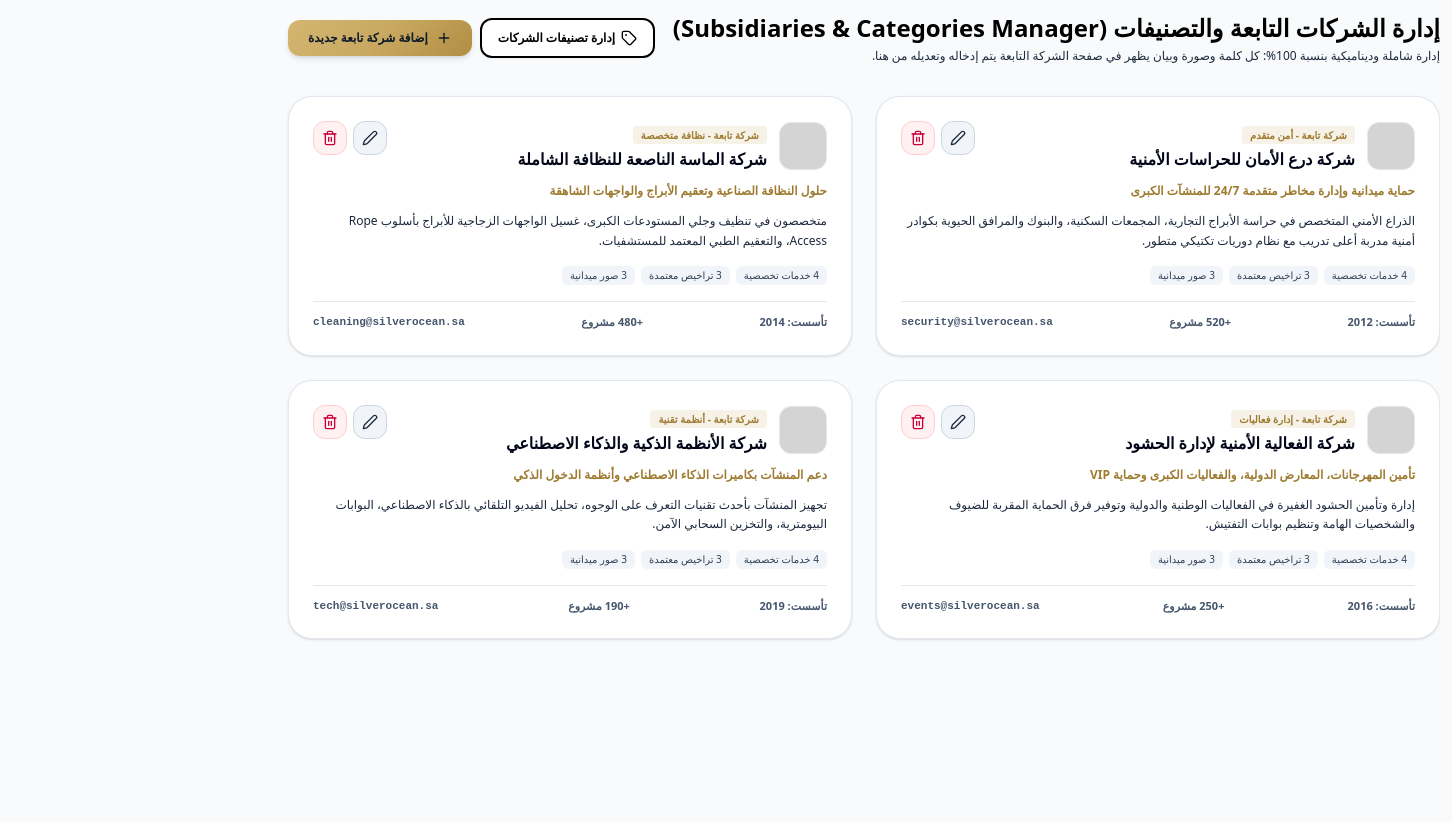
SubsidiariesManager - Light Mode Dark Text & Contrast Verification › 2. Shows dynamic category manager with black text and light inputs
What coordinates should you click on to do the following:
click the button "إدارة تصنيفات الشركات"
I would click on:
 (567, 38)
Its box is [480, 18, 655, 58].
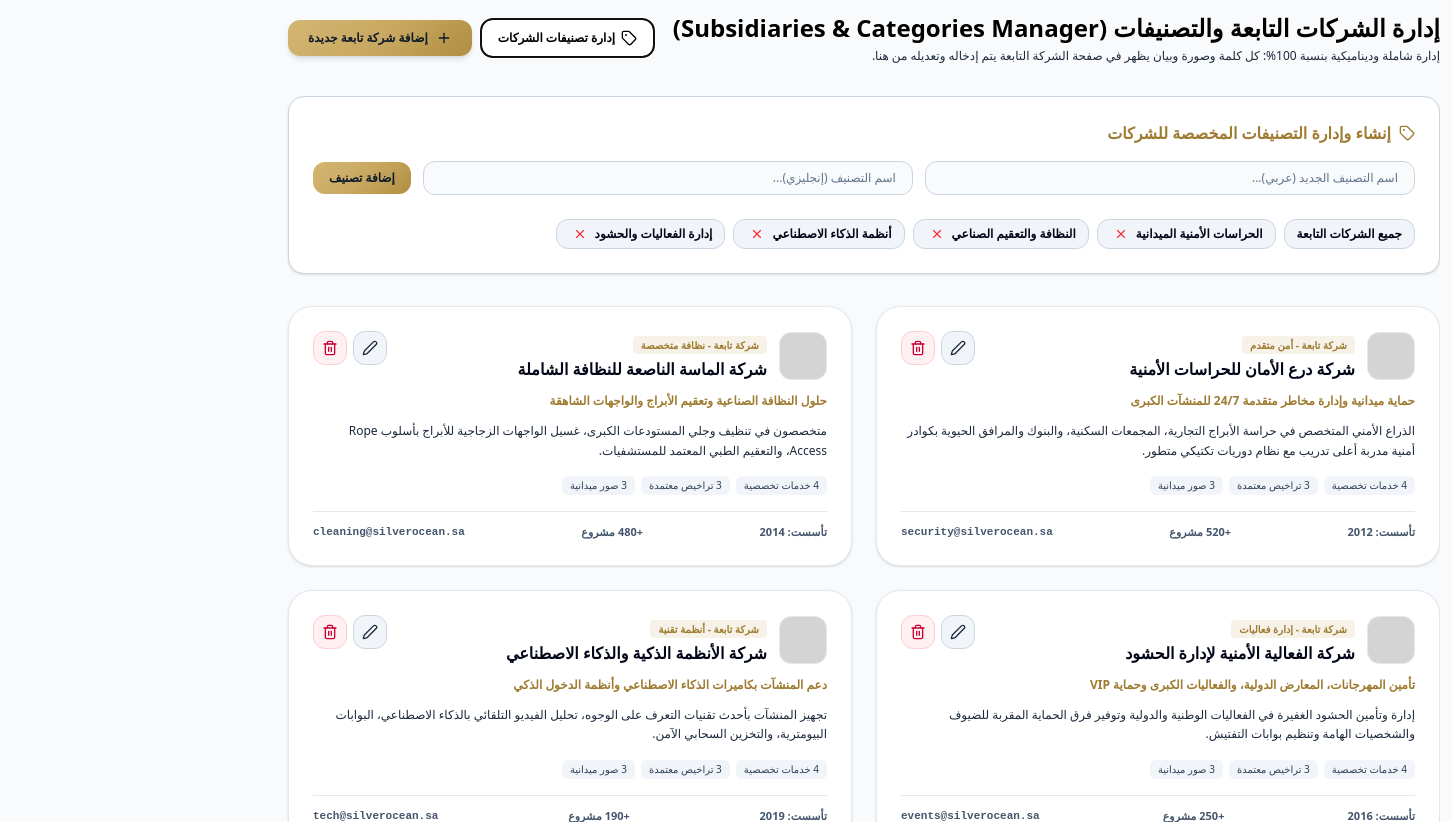
Now the text "إنشاء وإدارة التصنيفات المخصصة للشركات" is shown, box [1107, 121, 1391, 145]
Now the field with placeholder "اسم التصنيف الجديد (عربي)..." is shown, box [925, 161, 1415, 195]
